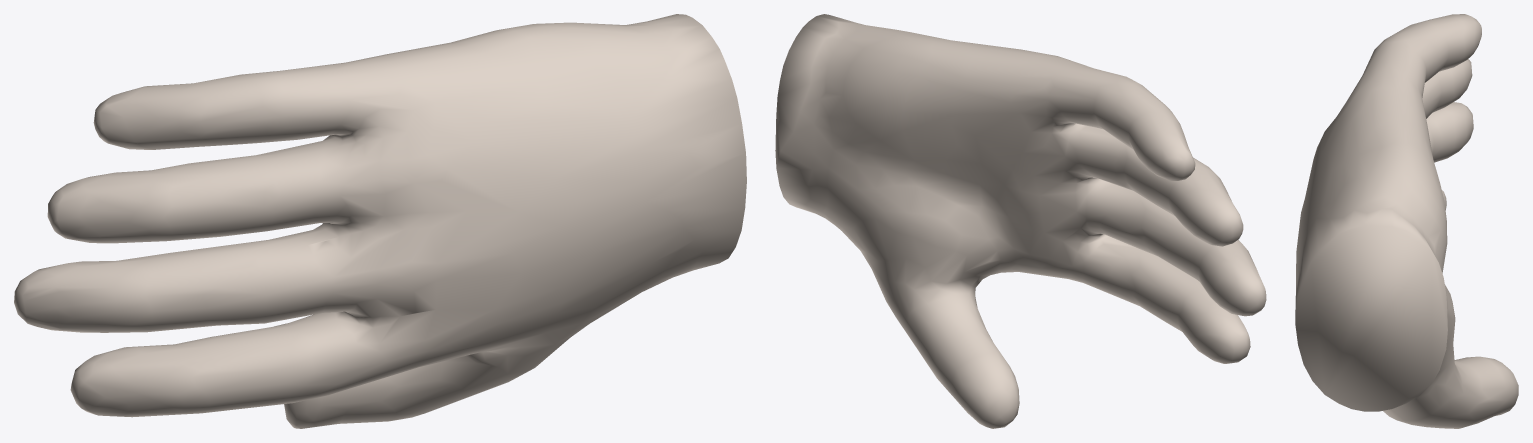
File: cursor_mano_abierta.glb
3 renders of one model, left to right at view 1: azimuth 30°, elevation 25°; view 2: azimuth 150°, elevation 25°; view 3: azimuth 270°, elevation 25°, orthographic. The views are drawn at different scales.
Visible parts, largest first — view 1: hand_abierta_dorso; view 2: hand_abierta_dorso; view 3: hand_abierta_dorso.
Boxes of the visible parts, left/top/right/bottom form: hand_abierta_dorso: left=14, top=14, right=746, bottom=428; hand_abierta_dorso: left=775, top=14, right=1266, bottom=428; hand_abierta_dorso: left=1295, top=14, right=1518, bottom=428.
Size of the model in its own units: 0.08 by 0.051 by 0.0311.
